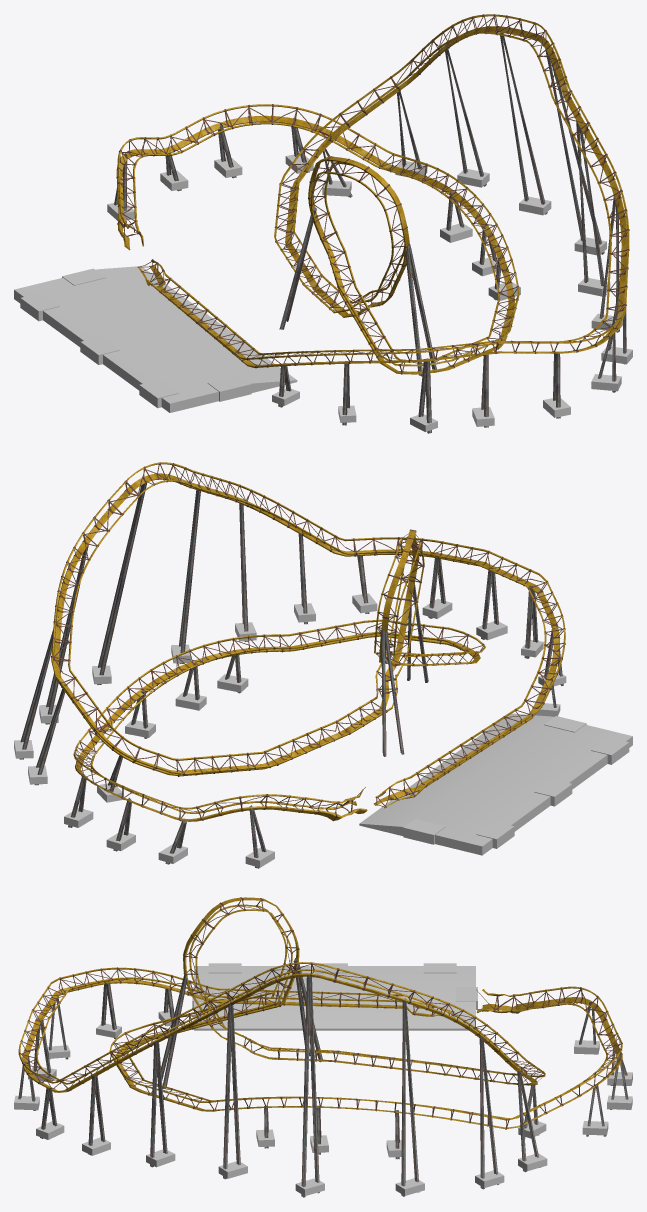
File: gorki.FBX
3 views of the same model, one above another, from view 1: azimuth 30°, elevation 25°; view 2: azimuth 150°, elevation 25°; view 3: azimuth 270°, elevation 25° (orthographic). The views are drawn at different scales.
Visible parts, largest first — view 1: taa, ta, Box004; view 2: taa, ta, Box004; view 3: taa, ta, Box004.
Part boxes in pixels (box(x1,y1,x2,y2)): taa: box(116, 14, 629, 374); ta: box(14, 154, 632, 431); Box004: box(114, 33, 626, 433); taa: box(51, 462, 565, 821); ta: box(14, 593, 632, 867); Box004: box(19, 482, 563, 868); taa: box(18, 897, 622, 1129); ta: box(14, 963, 632, 1195); Box004: box(18, 958, 628, 1197).
Bounding box in the file's own units: 7970 × 3539 × 9401.
